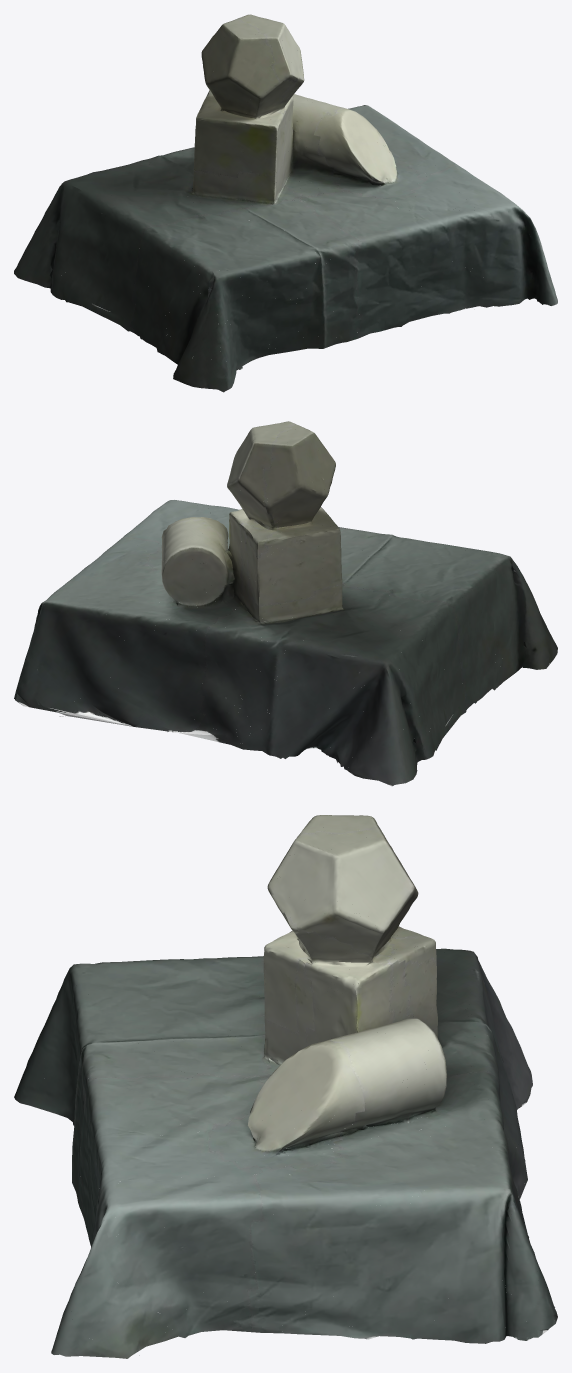
Rendered from 静物_几何体_十二面体组合07_opt.glb.
3 renders of one model, top to bottom at view 1: azimuth 30°, elevation 25°; view 2: azimuth 150°, elevation 25°; view 3: azimuth 270°, elevation 25°, orthographic. The views are drawn at different scales.
Visible parts, largest first — view 1: defaultMat, defaultMat_1; view 2: defaultMat, defaultMat_1; view 3: defaultMat, defaultMat_1.
Part boxes in pixels (bbox=[...]): defaultMat: bbox=[14, 14, 557, 392]; defaultMat_1: bbox=[35, 17, 553, 388]; defaultMat: bbox=[14, 421, 557, 786]; defaultMat_1: bbox=[15, 421, 546, 784]; defaultMat: bbox=[14, 815, 557, 1358]; defaultMat_1: bbox=[28, 816, 557, 1342].
Size of the model in its own units: 0.4775 by 0.3 by 0.3908.
1 material, 1 textured.
